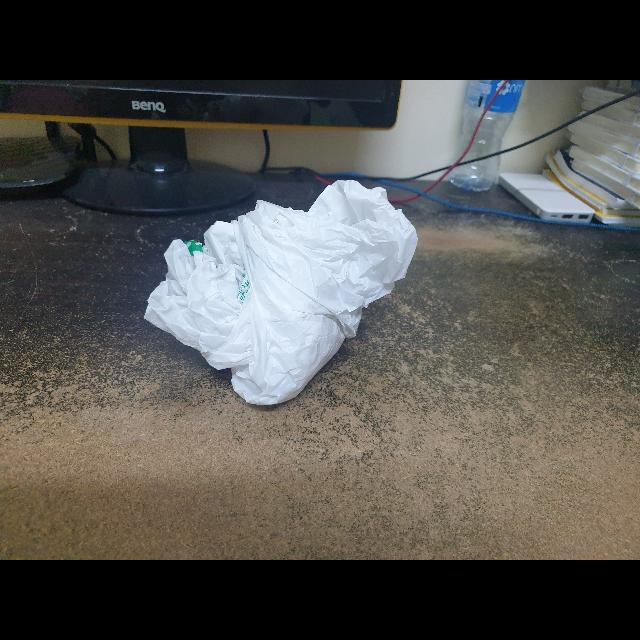plastic_bag: (124, 168, 430, 418)
